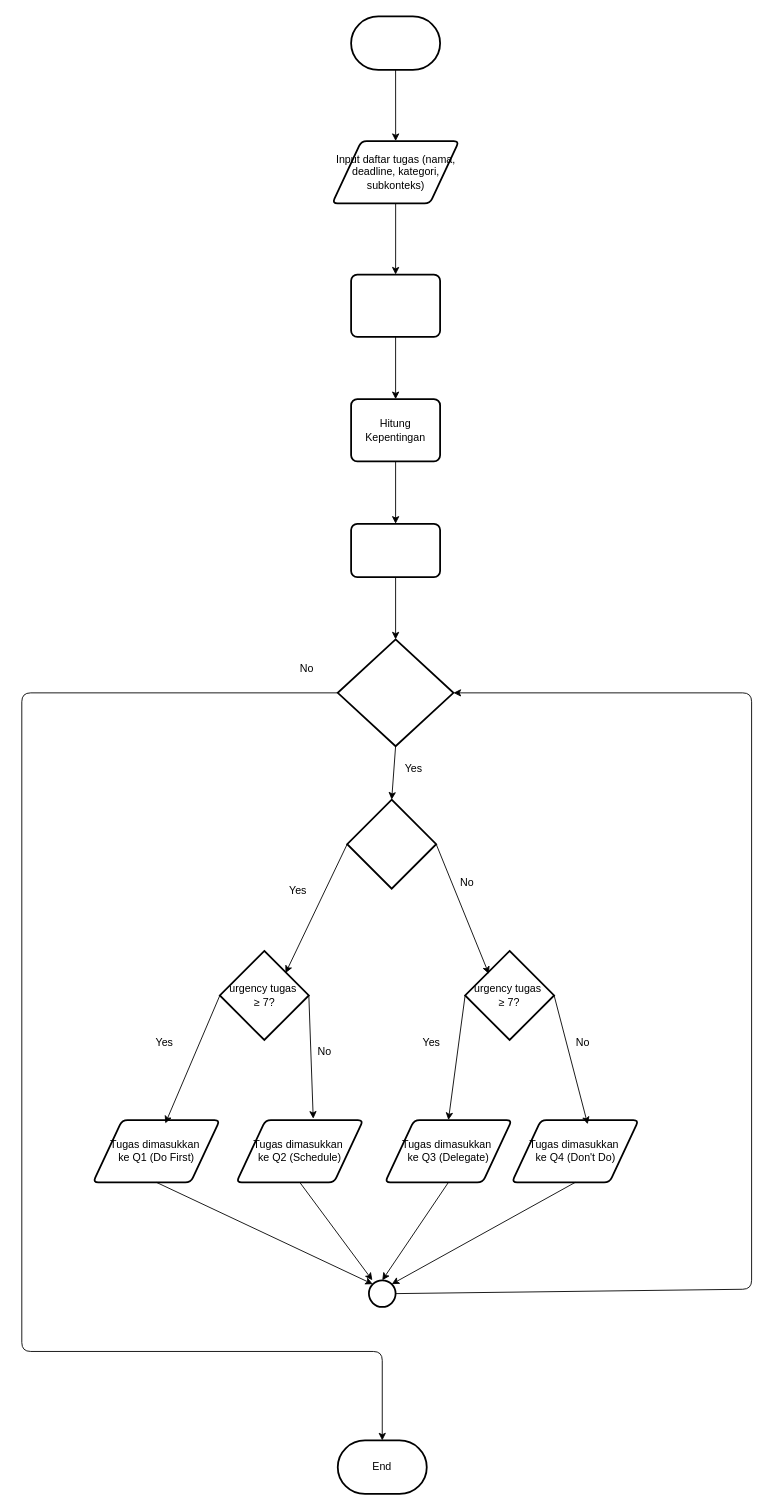
Image size: 774x1509. Some labels were removed from this diagram. Each missing label, with the centre of its shape:
"Apakah terdapat tugas yang belum dikategorikan?" goes at point 395,692.
"Hitung Skor Prioritas" goes at point 395,550.
"Hitung Urgensi" goes at point 395,305.
"importance tugas ≥ 7?" goes at point 391,843.
"Start" goes at point 395,42.
